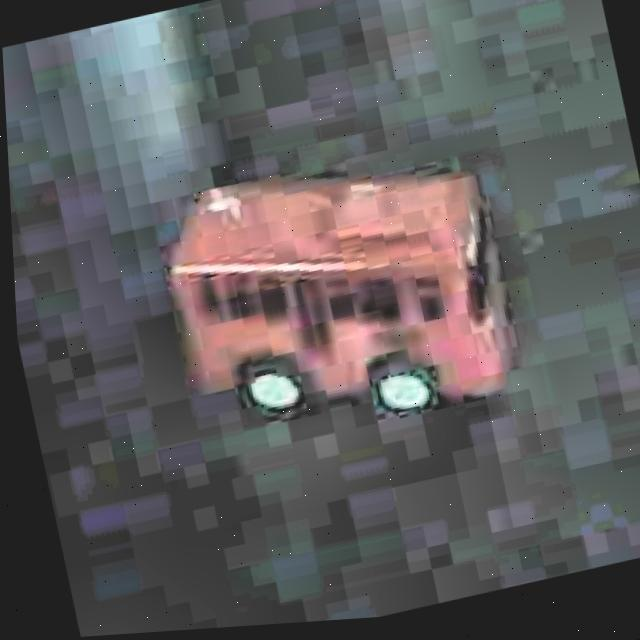bus: (139, 111, 542, 475)
